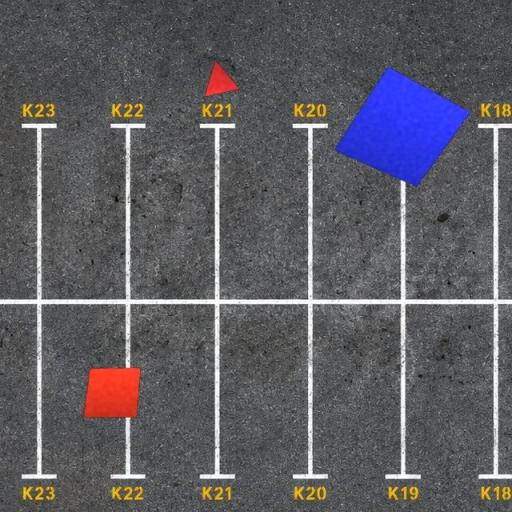BLUE_SQUARE: (333, 66, 470, 187)
RED_SQUARE: (83, 368, 142, 418)
